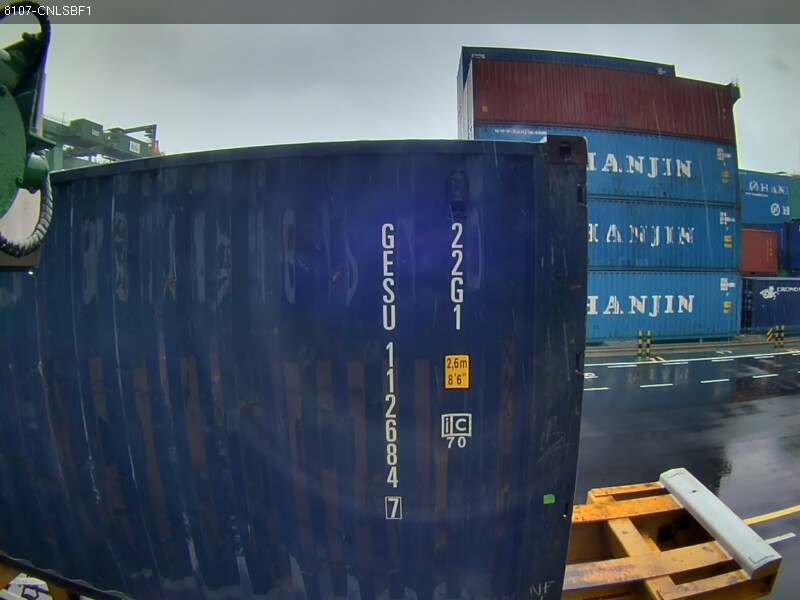container_no_door: (263, 134, 596, 568)
